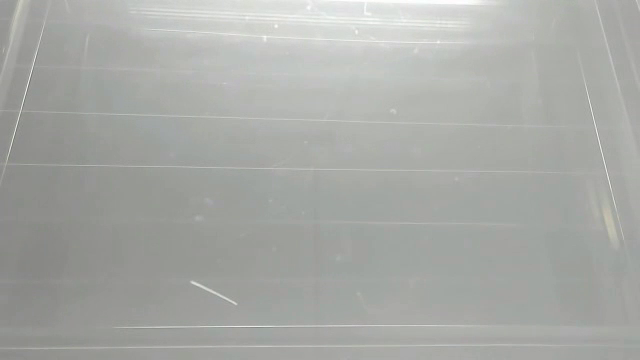alpha: (186, 275, 240, 309)
